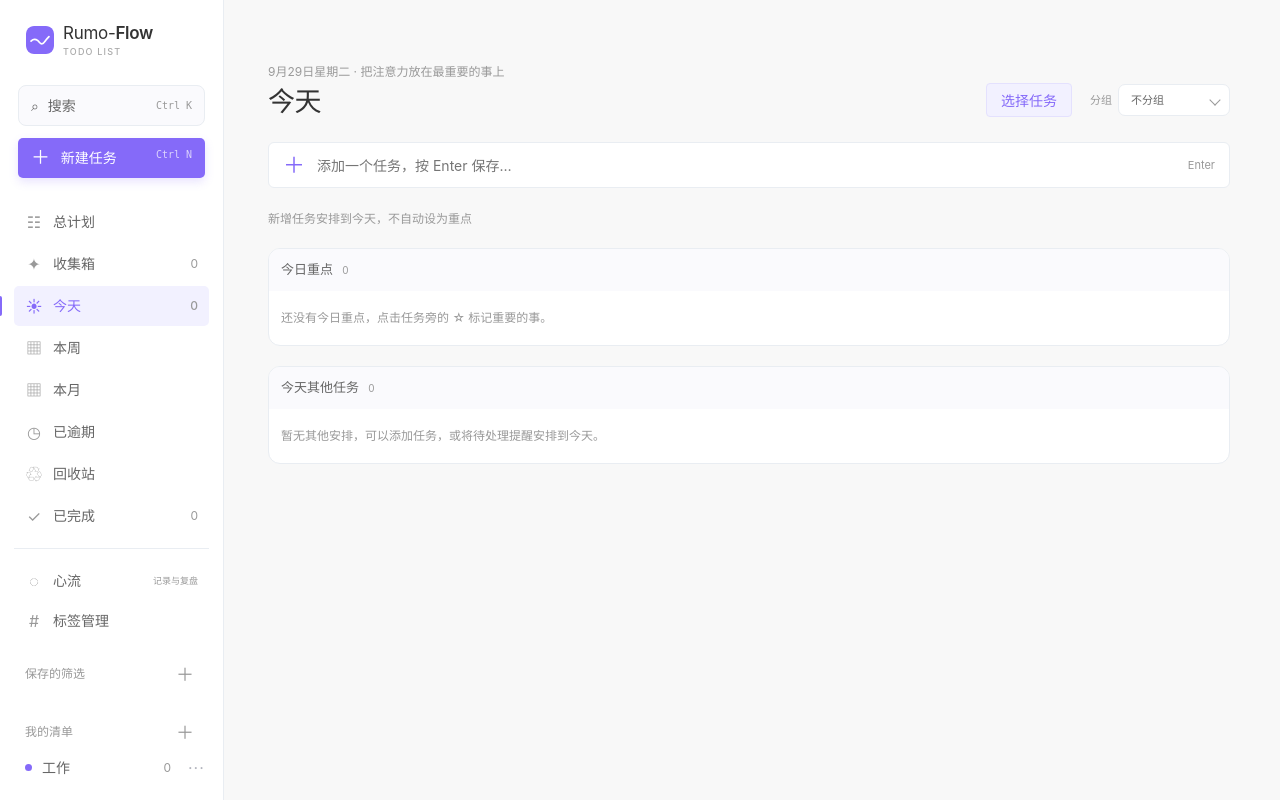
Test case: App critical interactions › keeps unplanned custom-list tasks out of today
Click the button with class "nav-item" showing "工作 0": coordinates (98, 768) [14, 748, 182, 788]
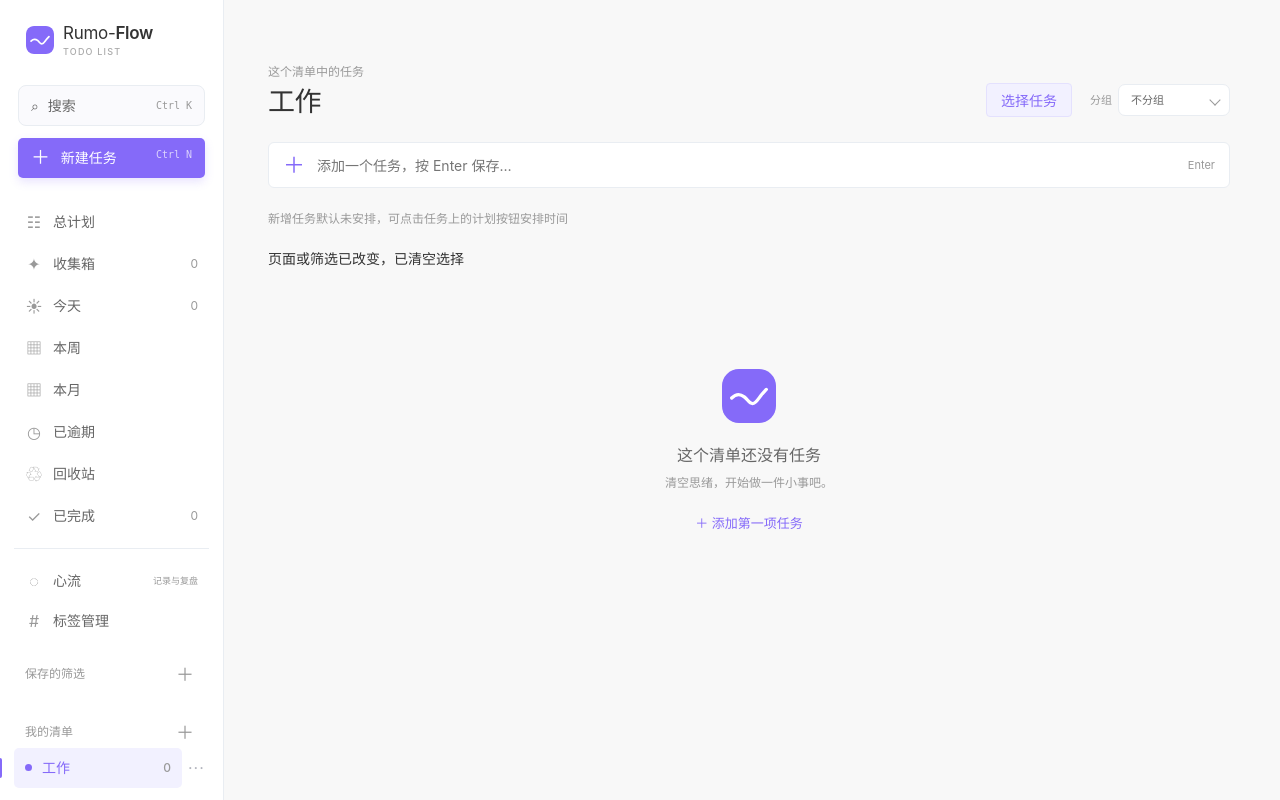
In the field with placeholder "添加一个任务，按 Enter 保存…": coordinates (751, 165) [315, 154, 1188, 176], type "开学前任务"
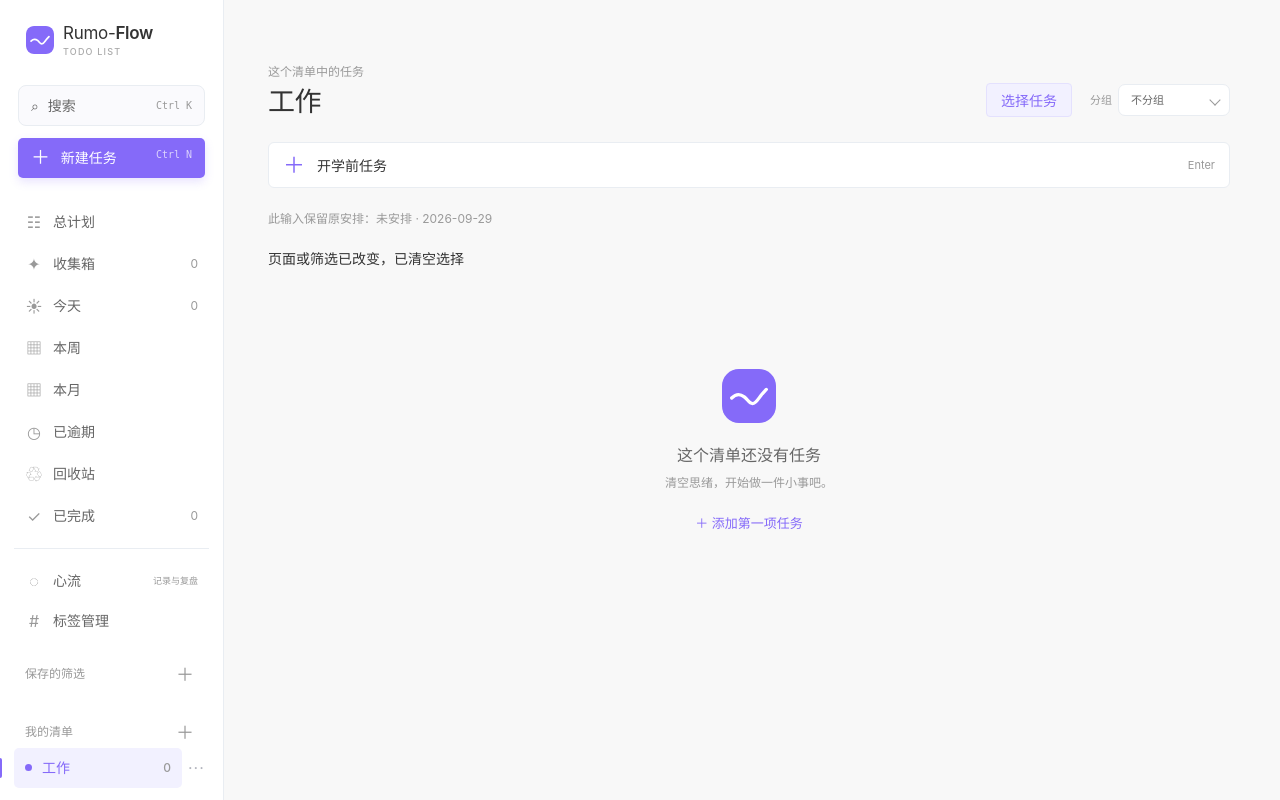
Press Enter in the field, box [315, 154, 1188, 176]
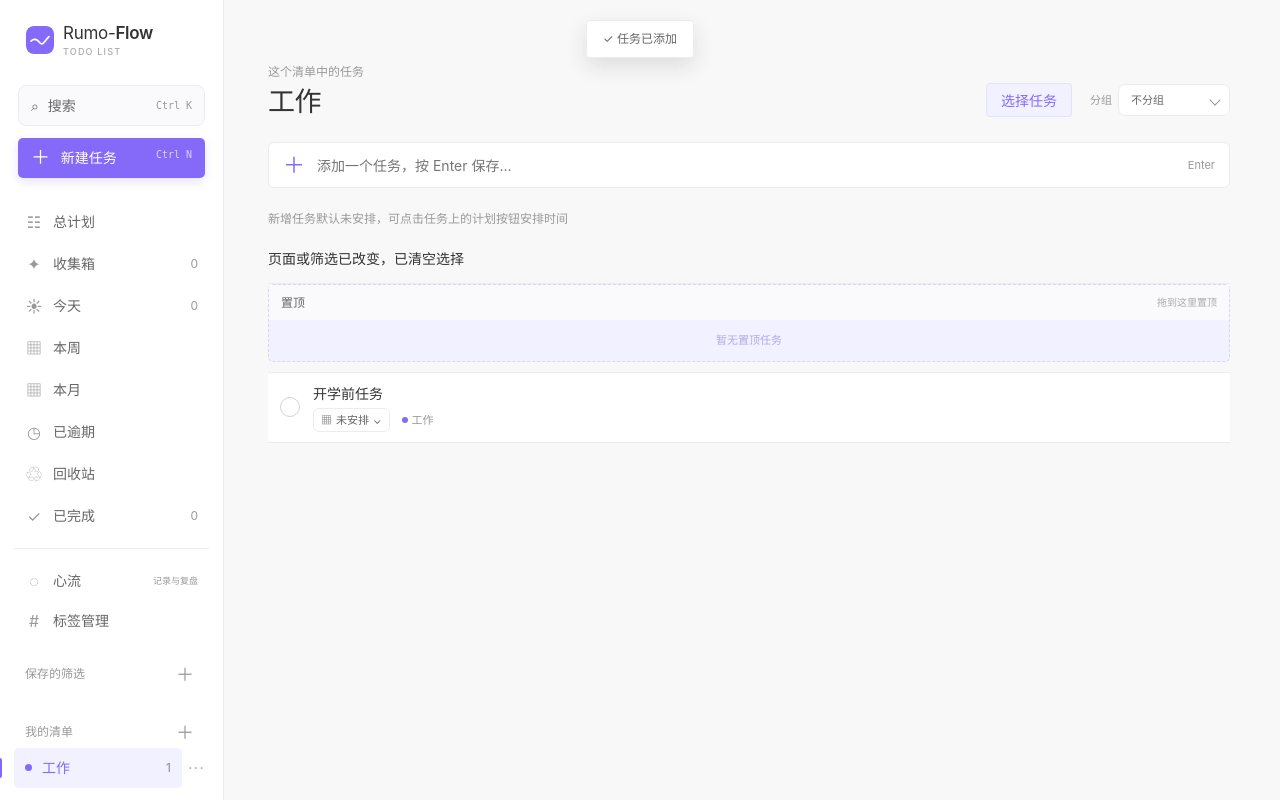
Click the button with class "nav-item" showing "☀ 今天 0": coordinates (112, 306) [14, 286, 209, 326]
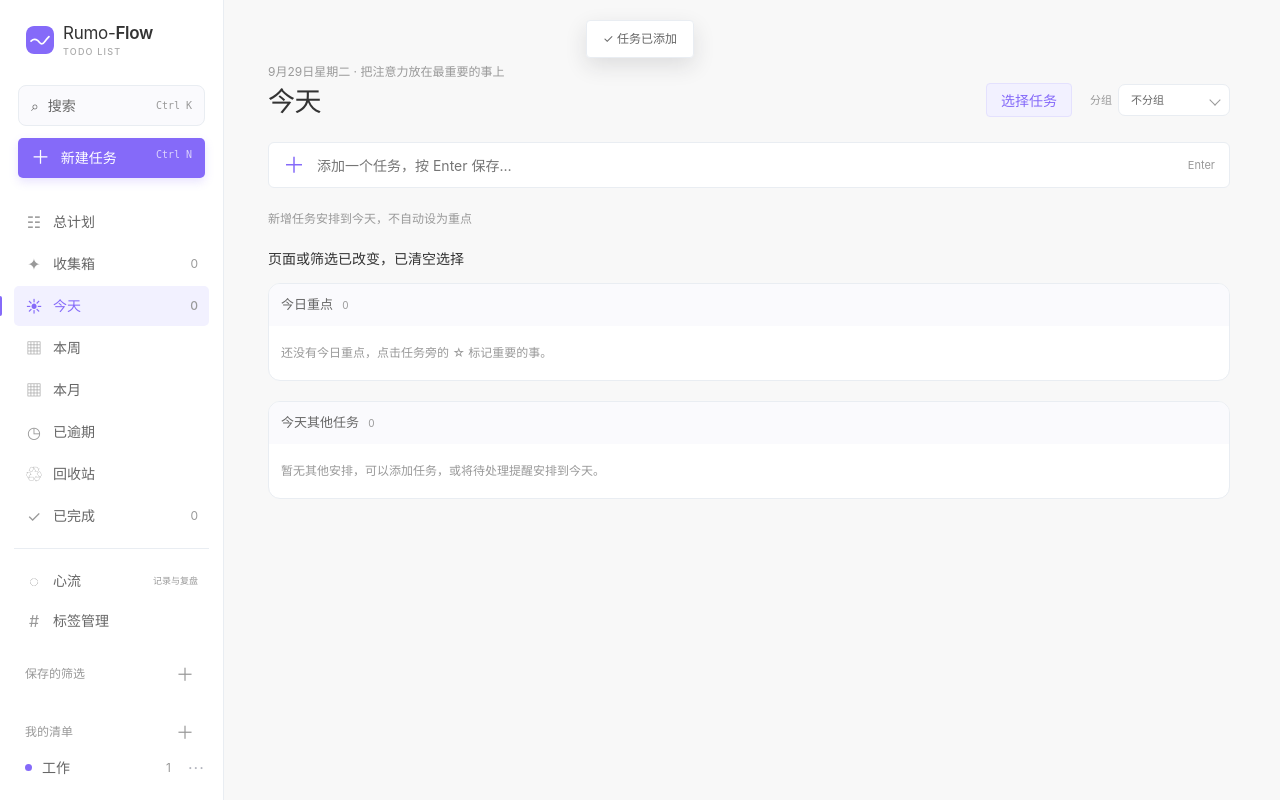
Expected: the 2nd text "0" is shown, [190, 297, 198, 315]
Result: no elements with class "task-row" are shown
